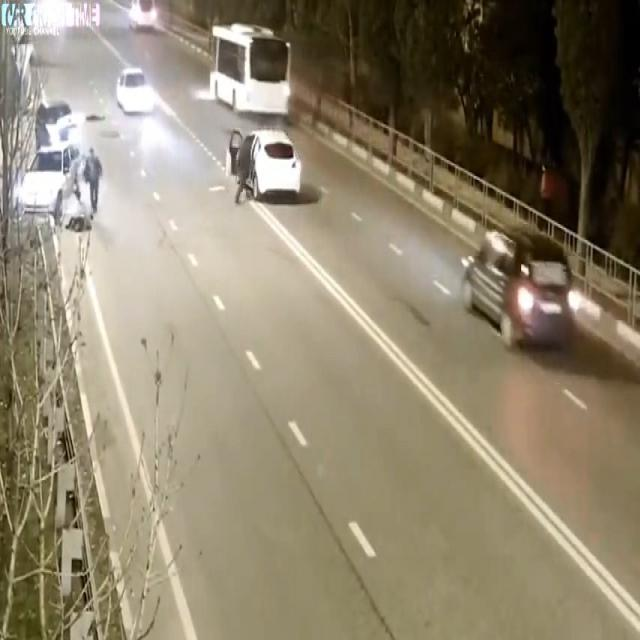Accident: (19, 79, 99, 250)
